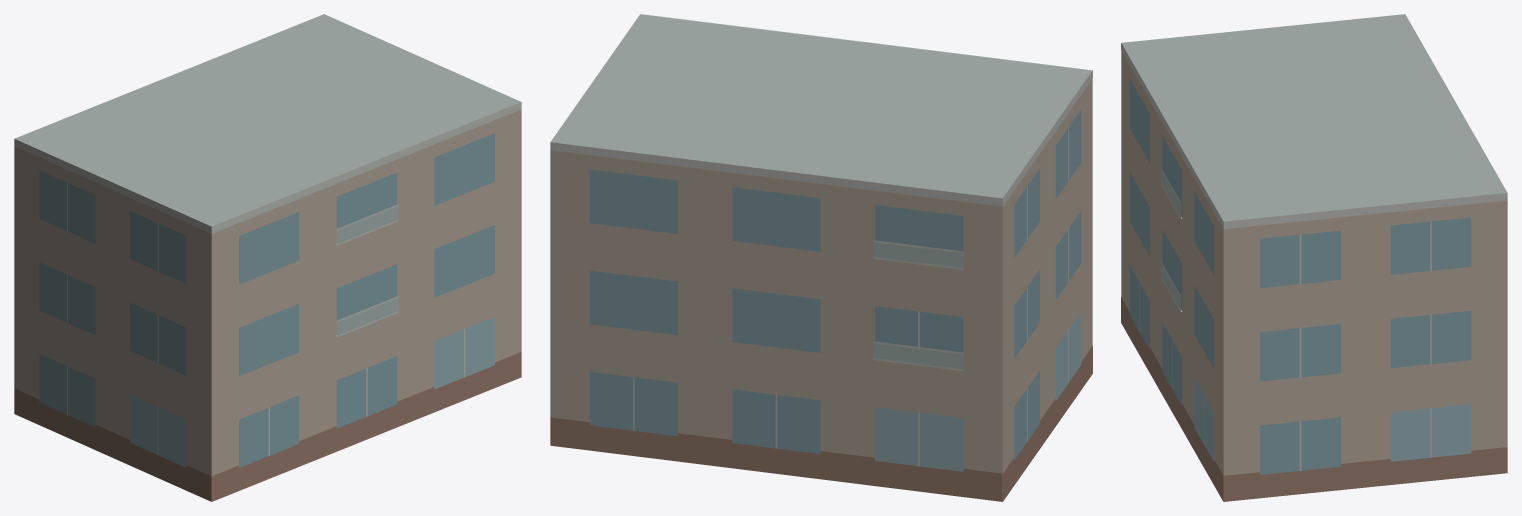
Rendered from survey-upis-32646197.glb.
3 views of the same model, side by side, from view 1: azimuth 30°, elevation 25°; view 2: azimuth 150°, elevation 25°; view 3: azimuth 270°, elevation 25° (orthographic). The views are drawn at different scales.
Parts seen in each view (by area): view 1: survey-upis-32646197.tmp; view 2: survey-upis-32646197.tmp; view 3: survey-upis-32646197.tmp.
Part boxes in pixels (box(x1,y1,x2,y2)): survey-upis-32646197.tmp: box(14, 14, 521, 501); survey-upis-32646197.tmp: box(550, 14, 1092, 501); survey-upis-32646197.tmp: box(1121, 14, 1507, 501).
Size of the model in its own units: 14.56 by 9.15 by 11.45.
